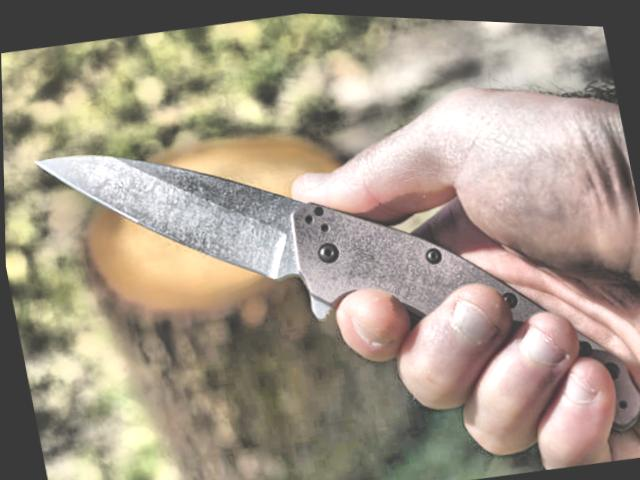knife: (16, 69, 483, 413)
